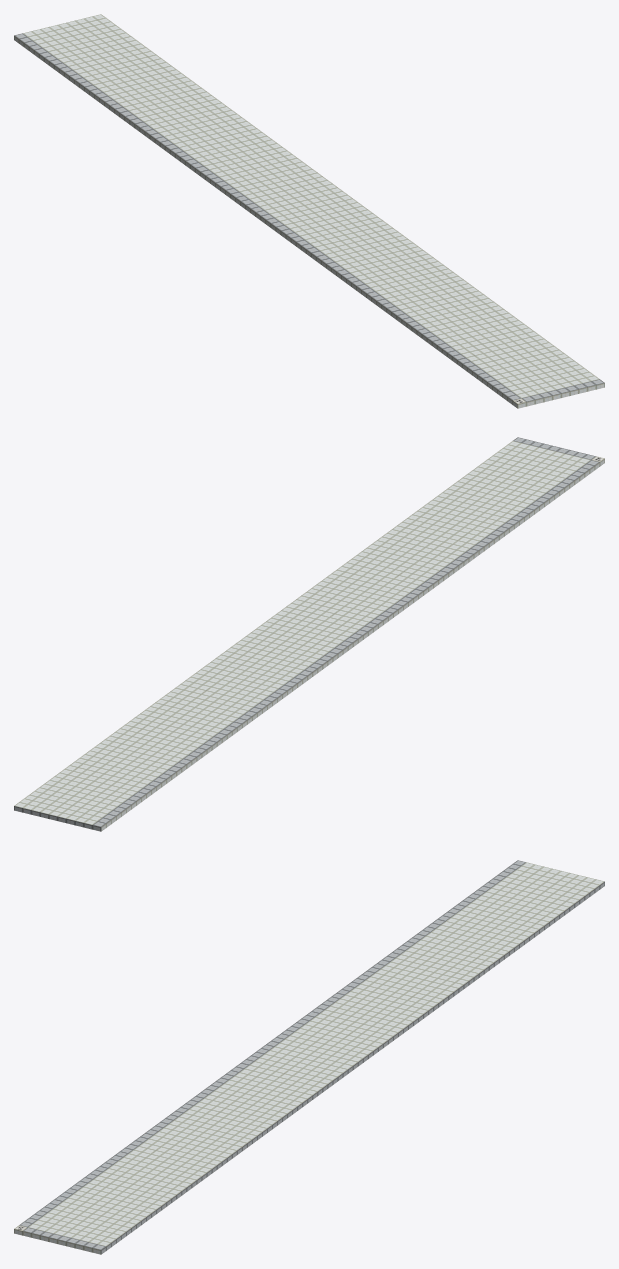
File: Brick Flat 100x10.fbx
The picture shows the model from 3 angles, top to bottom: view 1: azimuth 30°, elevation 25°; view 2: azimuth 150°, elevation 25°; view 3: azimuth 330°, elevation 25°; orthographic projection.
Parts seen in each view (by area): view 1: Cube; view 2: Cube; view 3: Cube.
Boxes of the visible parts, x1,y1,x2,y2 form: Cube: (14, 14, 604, 408); Cube: (14, 437, 604, 831); Cube: (14, 860, 604, 1254).
Bounding box in the file's own units: 1000 × 50 × 10000.
